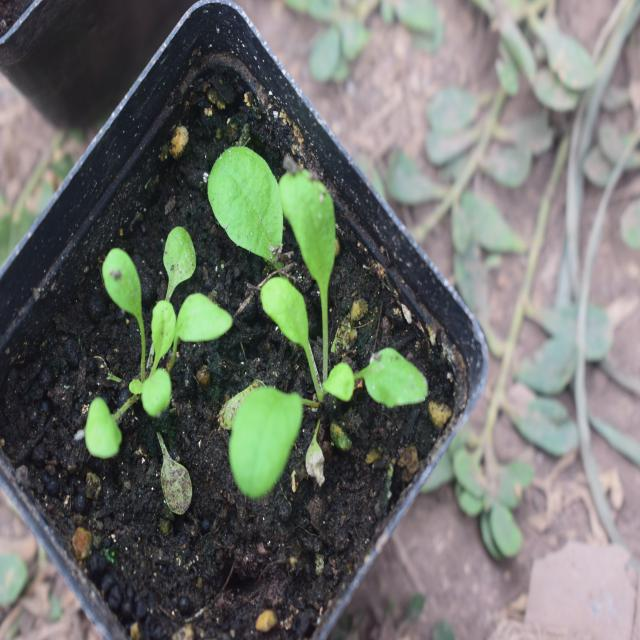Shepherd_Purse: (190, 115, 426, 499), (75, 205, 220, 440)
